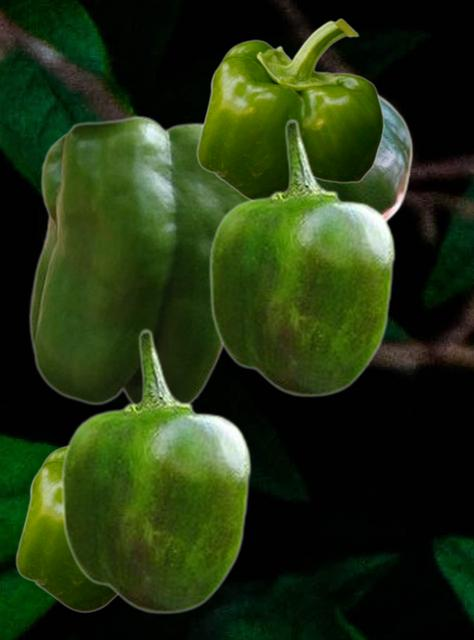bell_pepper: (28, 115, 245, 406), (60, 328, 251, 614), (208, 118, 395, 397), (196, 18, 383, 199), (15, 443, 117, 612), (318, 92, 412, 221)
